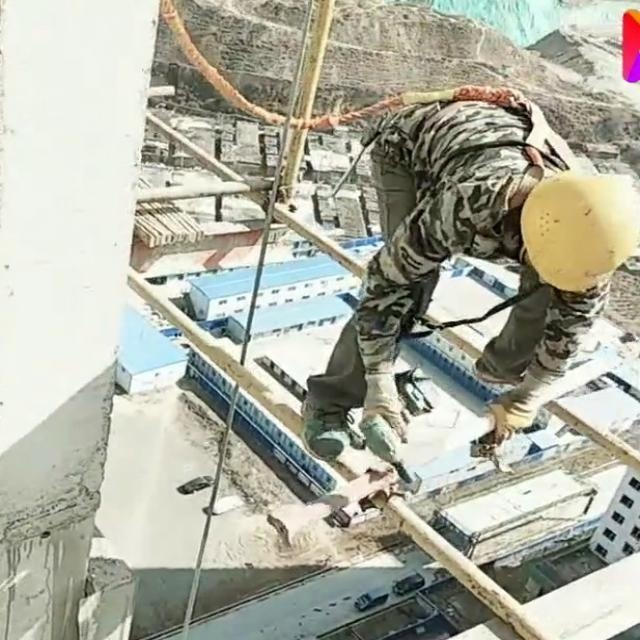Arnes_seguridad: (373, 78, 586, 221)
